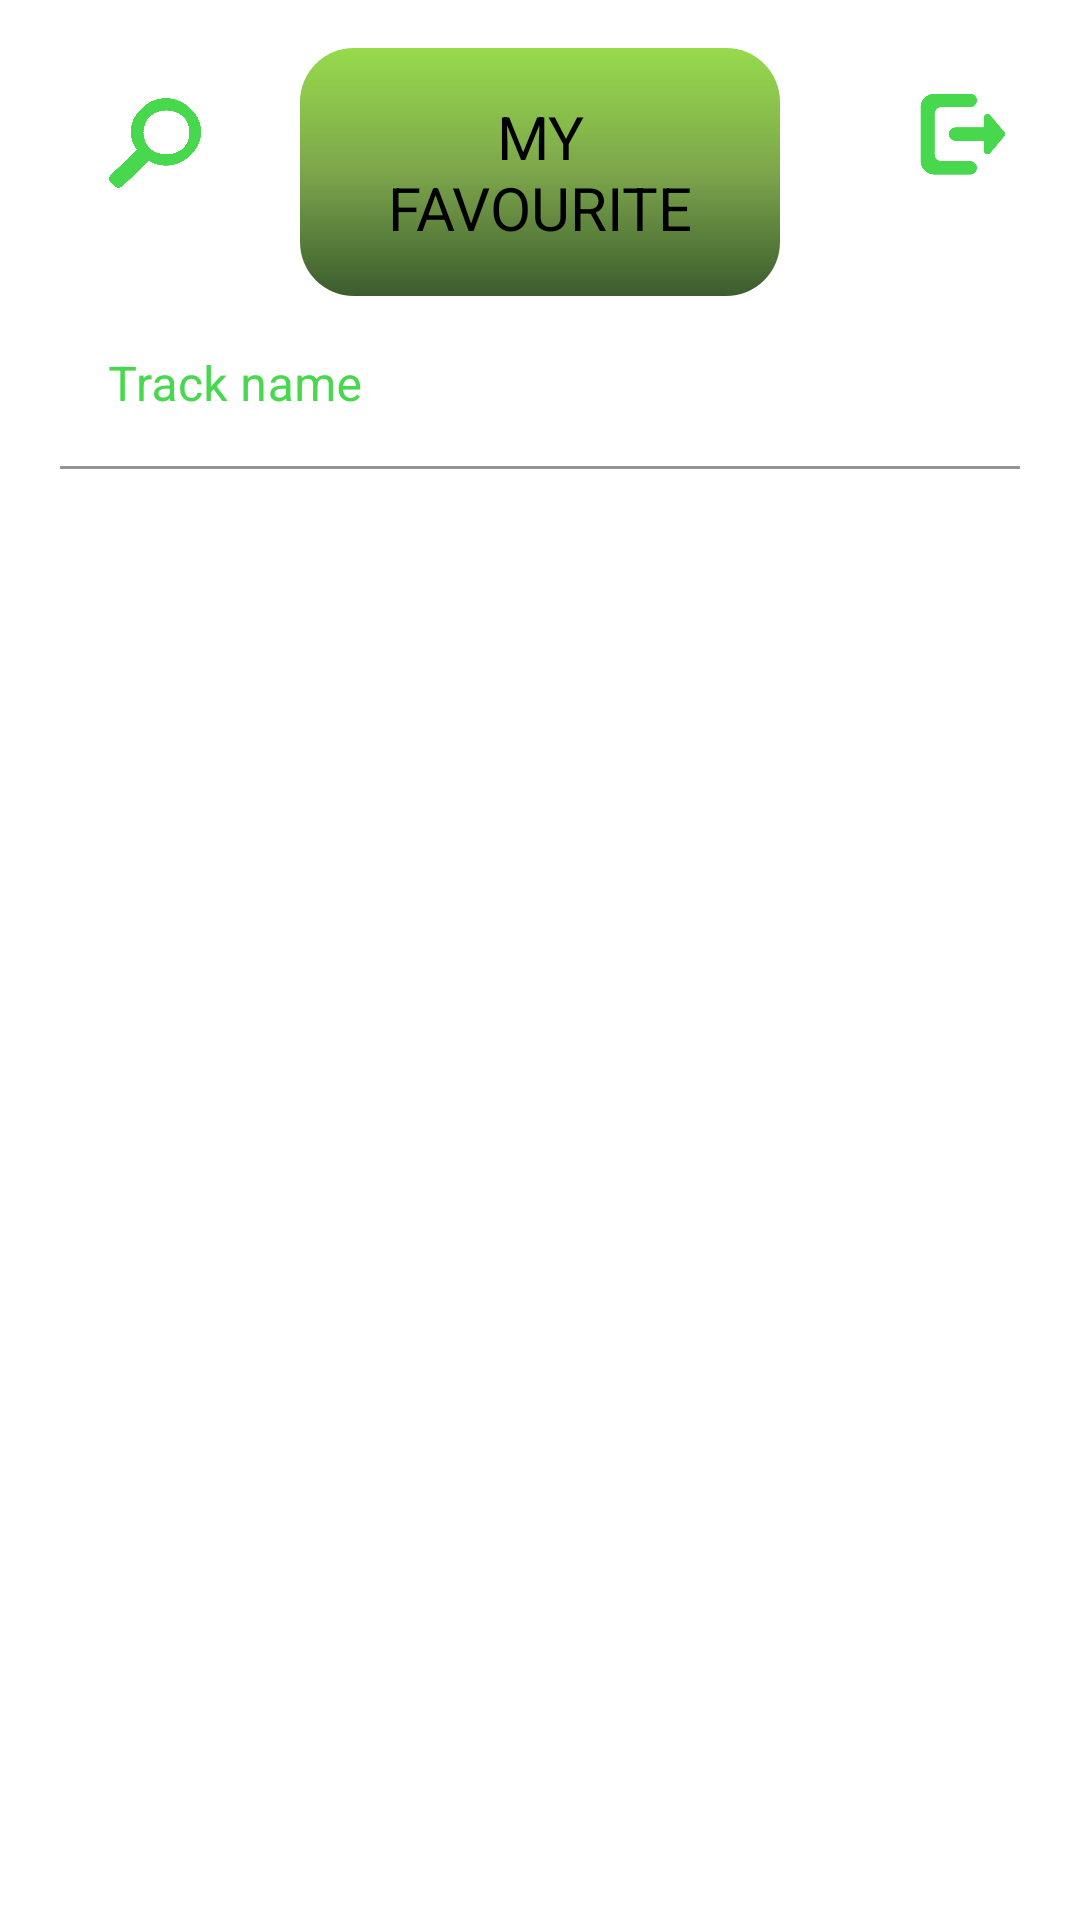

Locate icon controls on the screen. Image size 1080x1920, boxes as (x1, y1, x2, y2).
exit: (920, 94, 1005, 175)
search: (109, 98, 201, 188)
